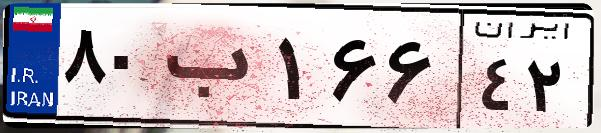0: (110, 28, 158, 98)
1: (270, 28, 330, 110)
2: (525, 38, 570, 115)
4: (475, 38, 525, 113)
6: (385, 28, 445, 110), (330, 28, 385, 110)
8: (57, 26, 110, 100)
ب: (158, 20, 270, 120)
